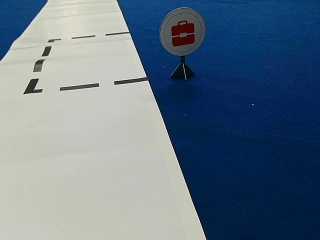company: (160, 7, 205, 54)
